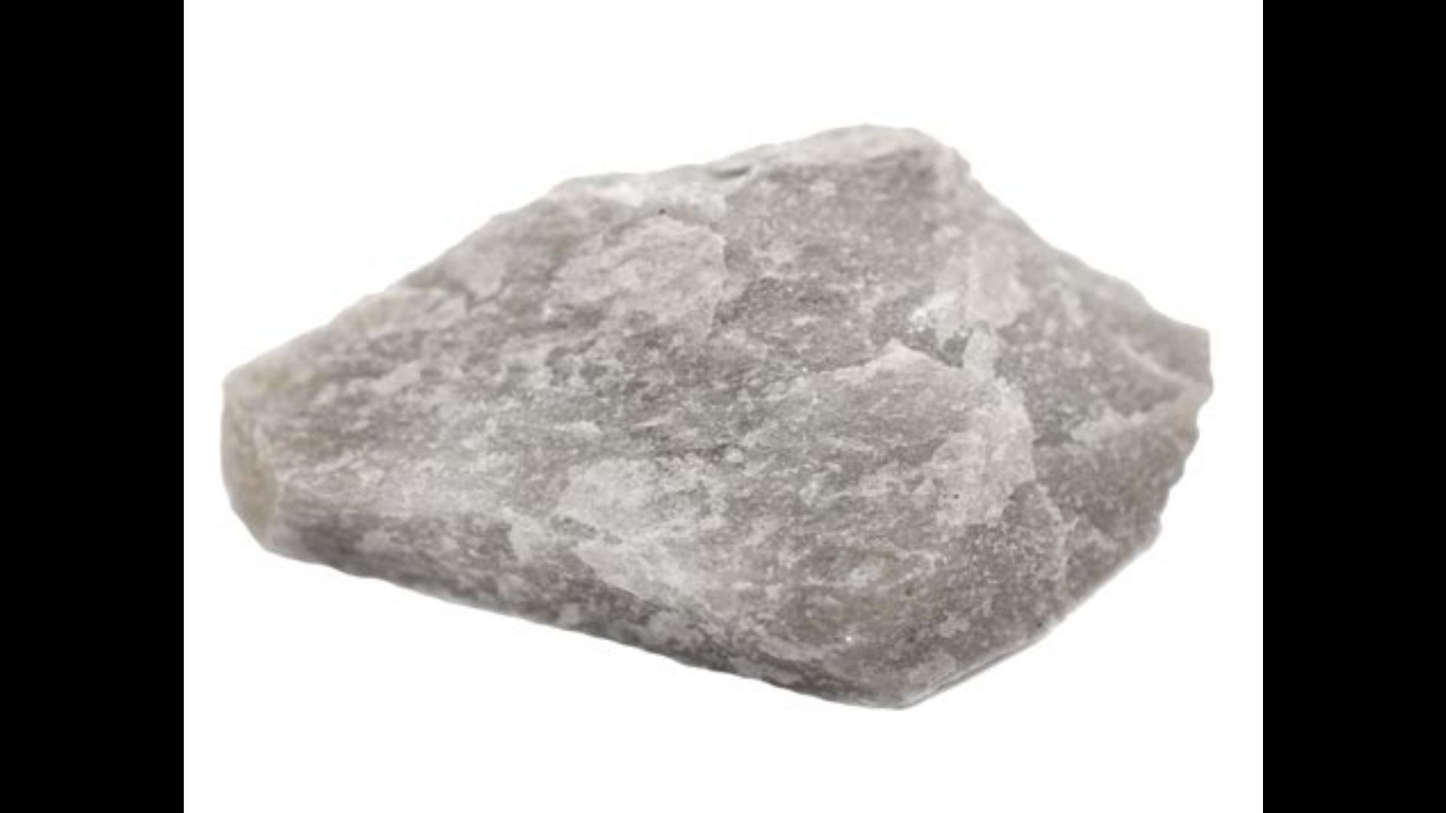rock: (222, 128, 1208, 701)
